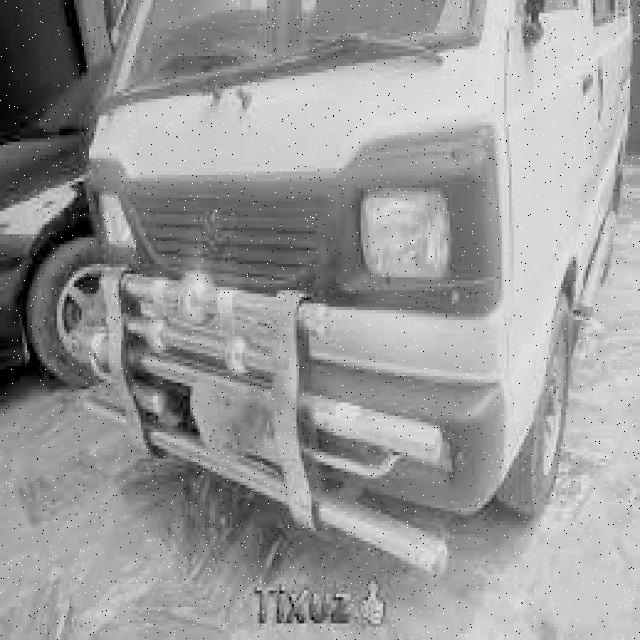Van: (79, 0, 628, 528)
